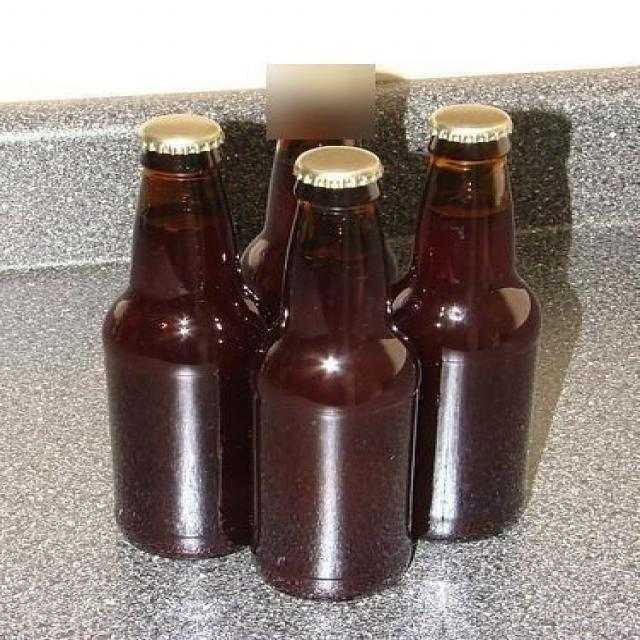bottle-glass: (247, 144, 423, 602), (100, 115, 274, 563), (403, 105, 544, 548)
